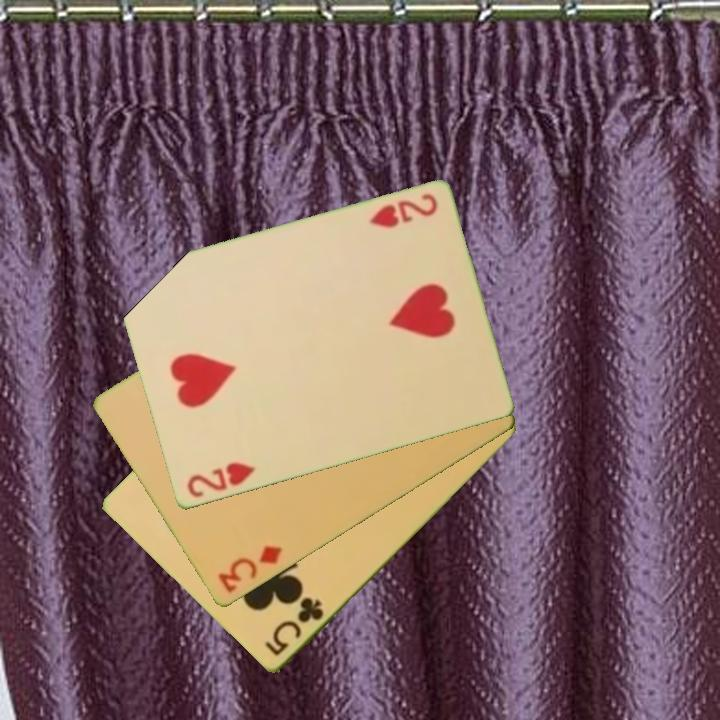2h: (183, 459, 259, 501), (365, 190, 440, 232)
3d: (214, 542, 285, 597)
5c: (261, 594, 327, 660)
